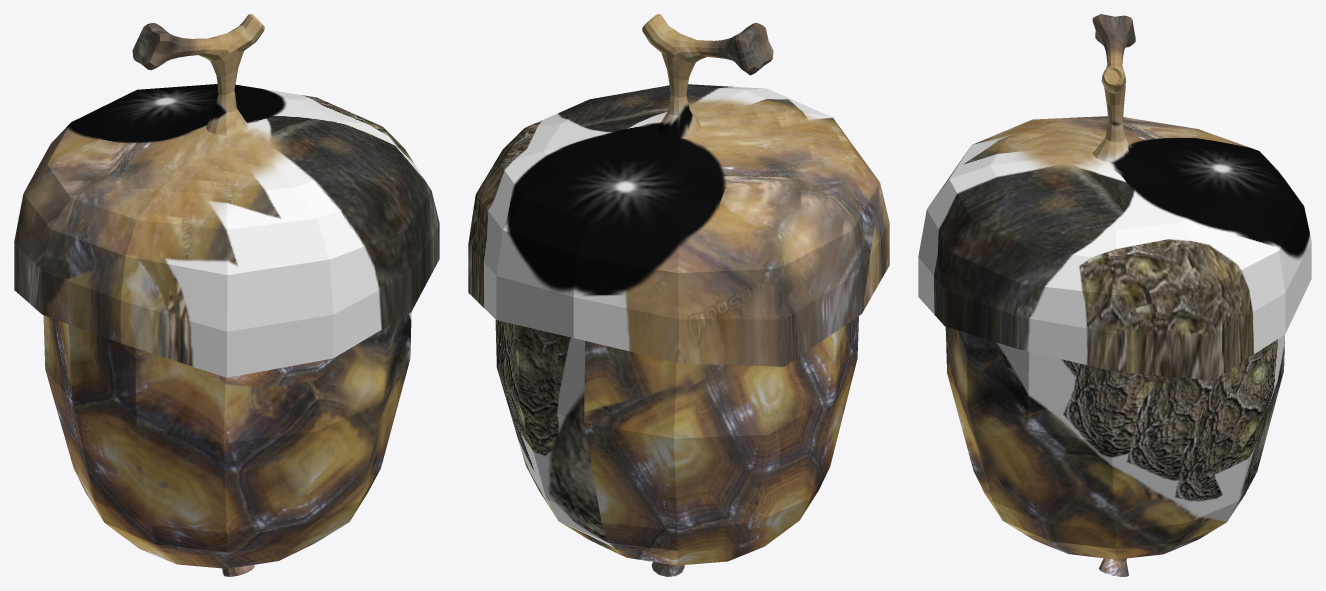
Rendered from Acorn.fbx.
3 renders of one model, left to right at view 1: azimuth 30°, elevation 25°; view 2: azimuth 150°, elevation 25°; view 3: azimuth 270°, elevation 25°, orthographic. The views are drawn at different scales.
Parts seen in each view (by area): view 1: quathong:Cylinder01; view 2: quathong:Cylinder01; view 3: quathong:Cylinder01.
Boxes of the visible parts, <box> form: quathong:Cylinder01: <box>14,14,439,576</box>; quathong:Cylinder01: <box>468,14,889,576</box>; quathong:Cylinder01: <box>918,14,1311,576</box>.
Bounding box in the file's own units: 36.31 × 53.29 × 36.28.
